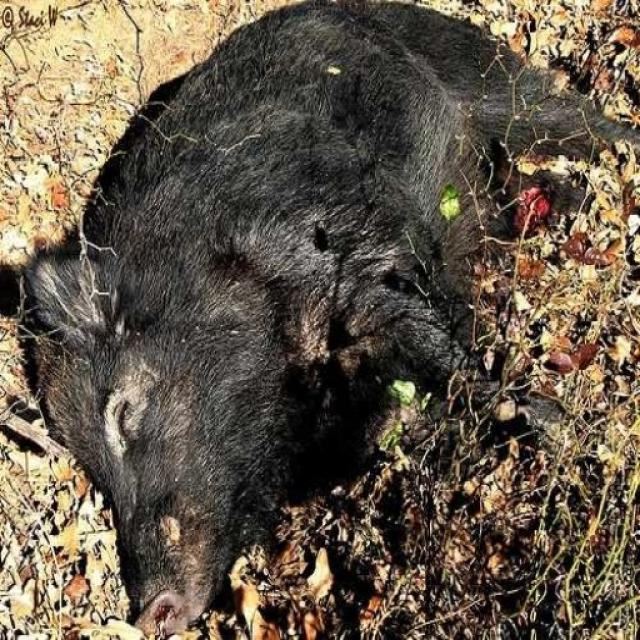pig: (15, 5, 562, 638)
